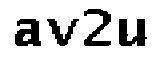2: (81, 4, 114, 53)
a: (8, 17, 44, 49)
u: (115, 15, 151, 49)
v: (45, 16, 81, 48)
